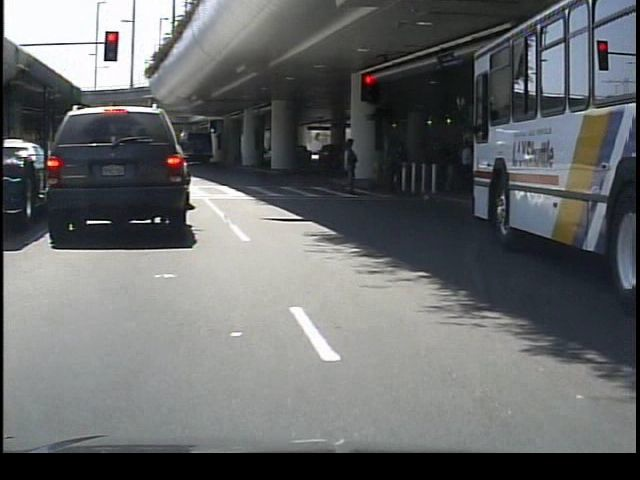person: (334, 136, 364, 199), (382, 138, 408, 193)
